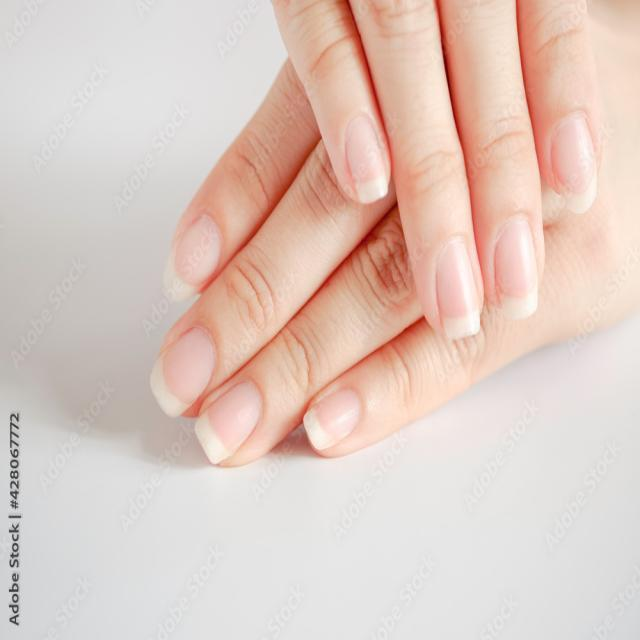Fingernail: (150, 329, 215, 421), (197, 382, 262, 465), (164, 216, 224, 301), (553, 114, 598, 214), (438, 238, 480, 340), (497, 224, 538, 319), (302, 388, 361, 452), (347, 116, 389, 204)
